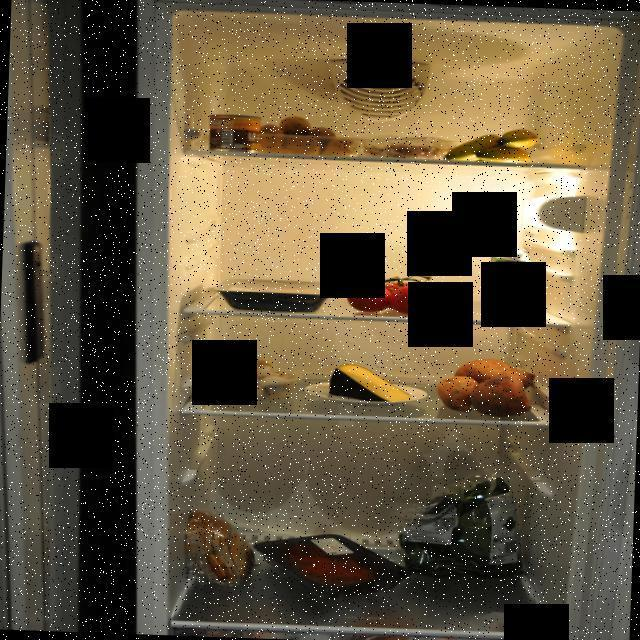banana: (440, 124, 541, 166)
beef: (248, 526, 414, 608)
bread: (180, 508, 262, 586)
cheese: (327, 359, 416, 406)
corn: (205, 110, 268, 156)
heavy_cream: (486, 247, 532, 320)
mushrooms: (208, 351, 298, 404)
potato: (249, 114, 367, 158)
shrimp: (360, 141, 464, 163)
spinach: (394, 474, 532, 584)
sweet_potato: (432, 357, 542, 418)
tomato: (336, 258, 474, 320)
